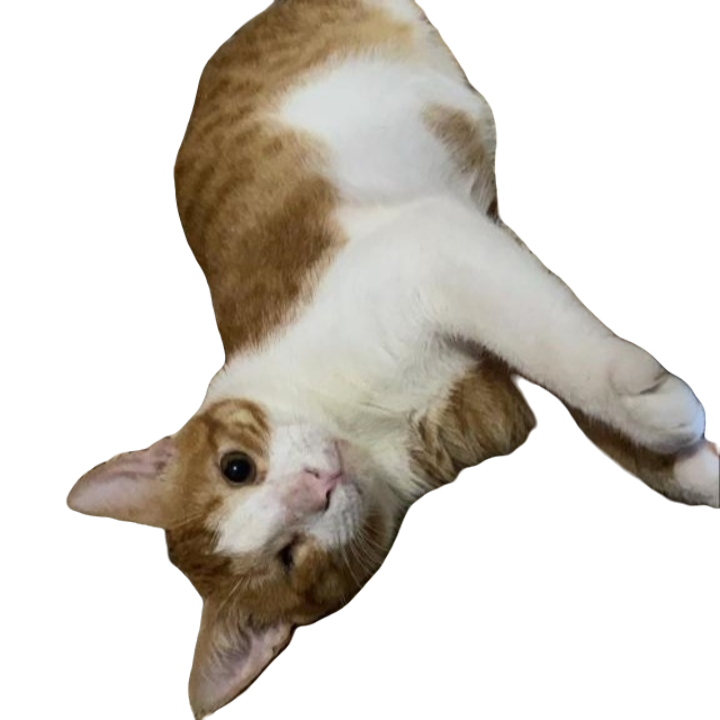Cat: (57, 0, 719, 717)
